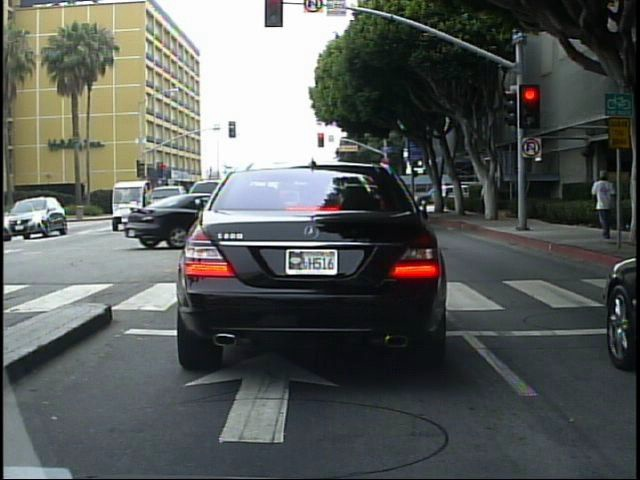person: (592, 166, 618, 241), (479, 176, 494, 219), (437, 179, 451, 213), (629, 165, 632, 254)
